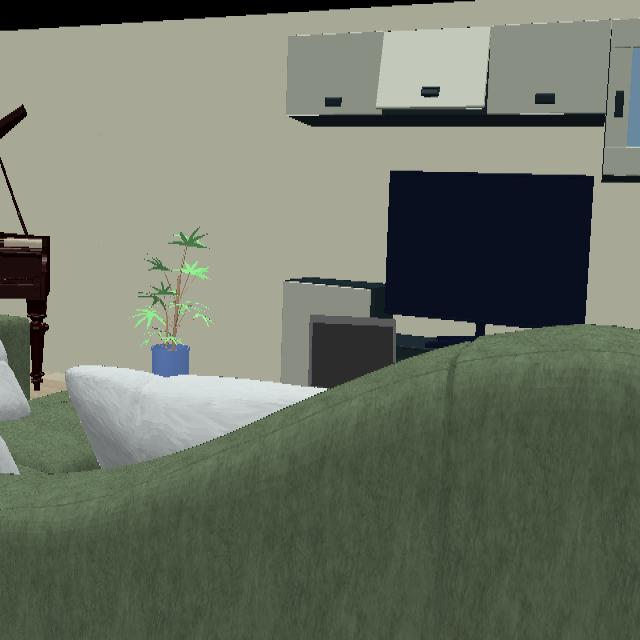cabinet: (287, 19, 640, 177), (282, 277, 391, 385), (397, 333, 437, 361)
laptop: (309, 315, 397, 389)
monitor: (386, 171, 594, 344)
pillow: (65, 365, 322, 472), (0, 337, 31, 427), (0, 433, 19, 479)
sofa: (0, 325, 640, 640), (0, 315, 31, 401)
